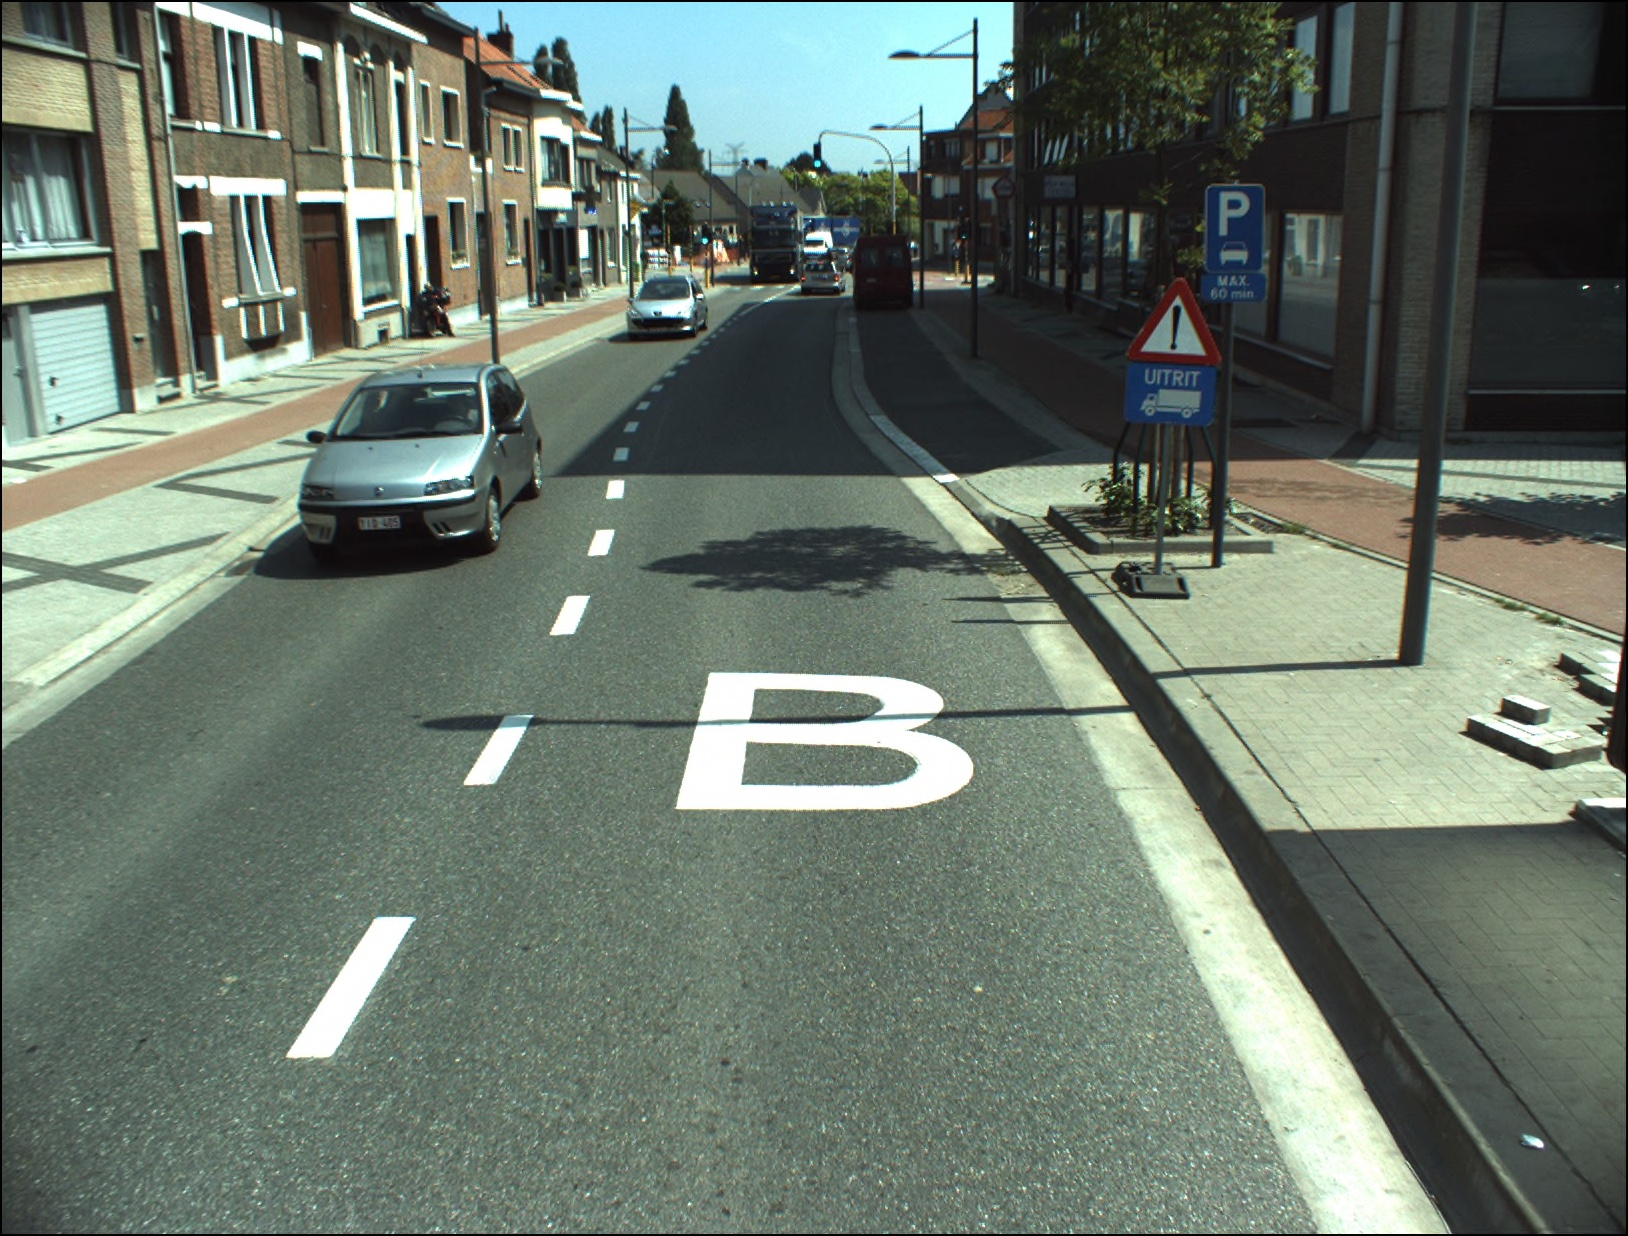danger: (1128, 279, 1216, 361)
parking: (1205, 182, 1264, 279)
